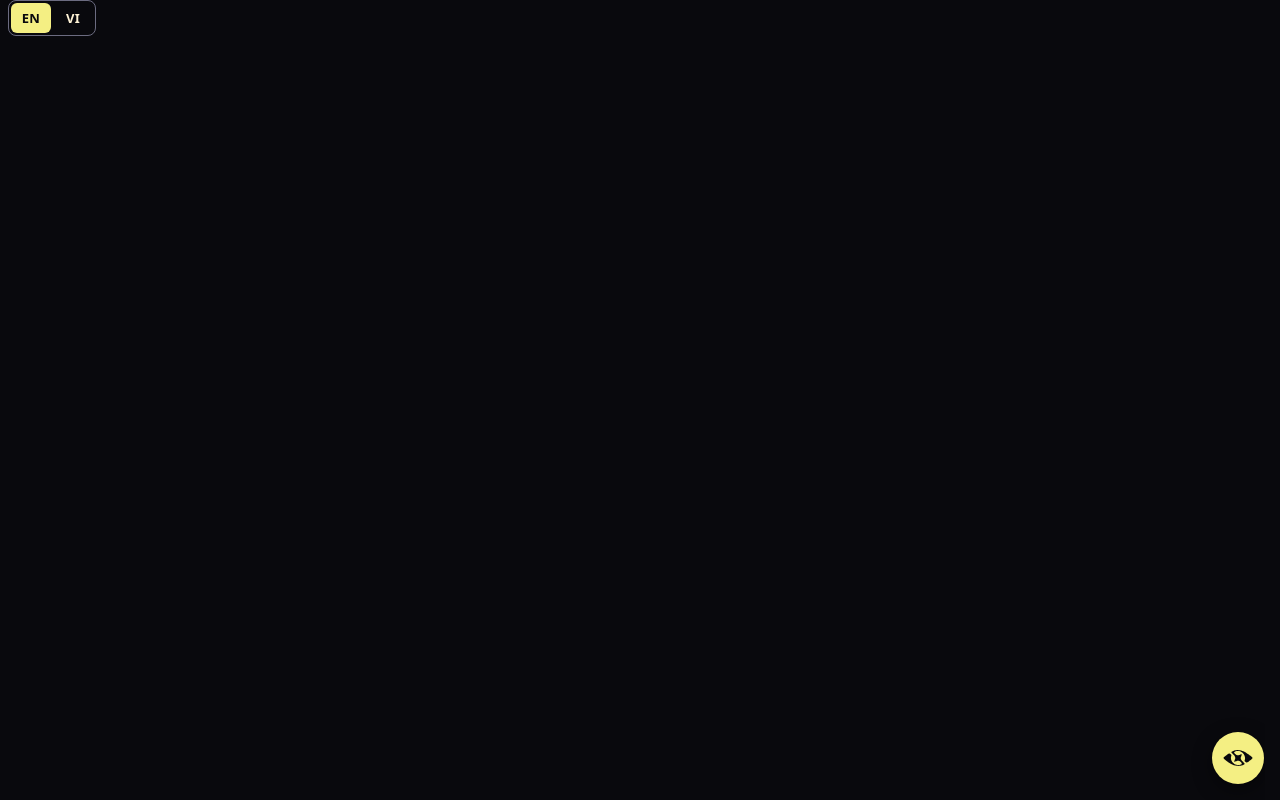
Test: StarChat › updates quick answers and interface when switching language, preserving user messages
Click the button with class "star-chat__fab" at (1238, 758), box top-left (1212, 732), bottom-right (1264, 784)
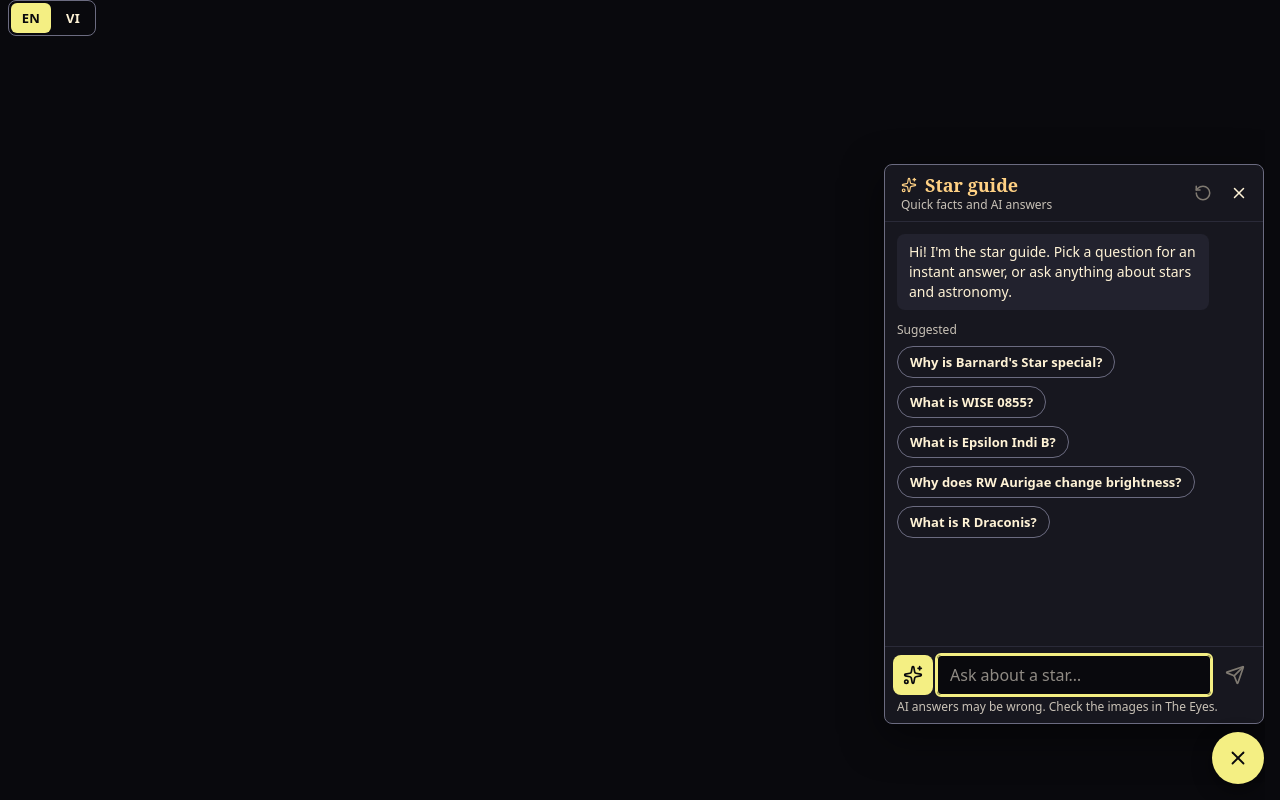
Click the button with class "chip" showing "Why is Barnard's Star special?" at (1006, 362), box top-left (897, 346), bottom-right (1115, 378)
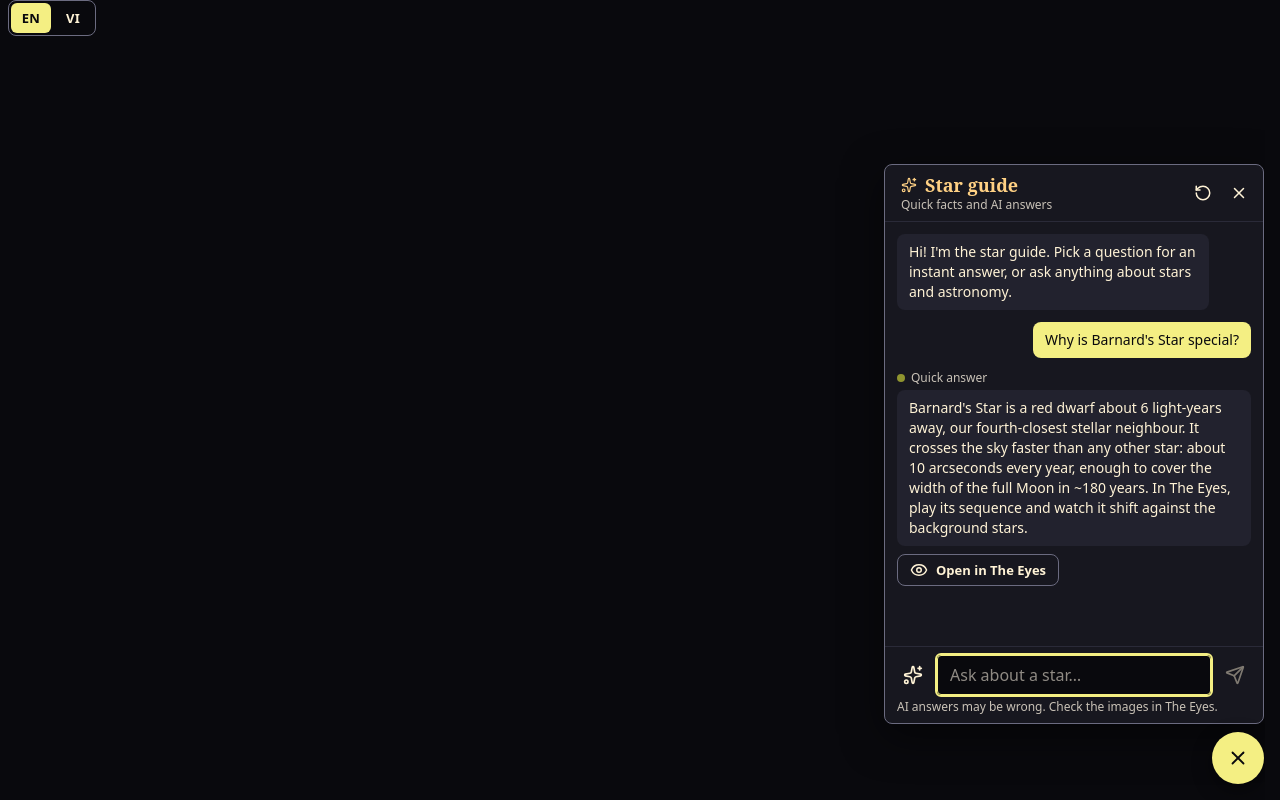
Click the button "VI" at (73, 18), box top-left (53, 3), bottom-right (93, 33)
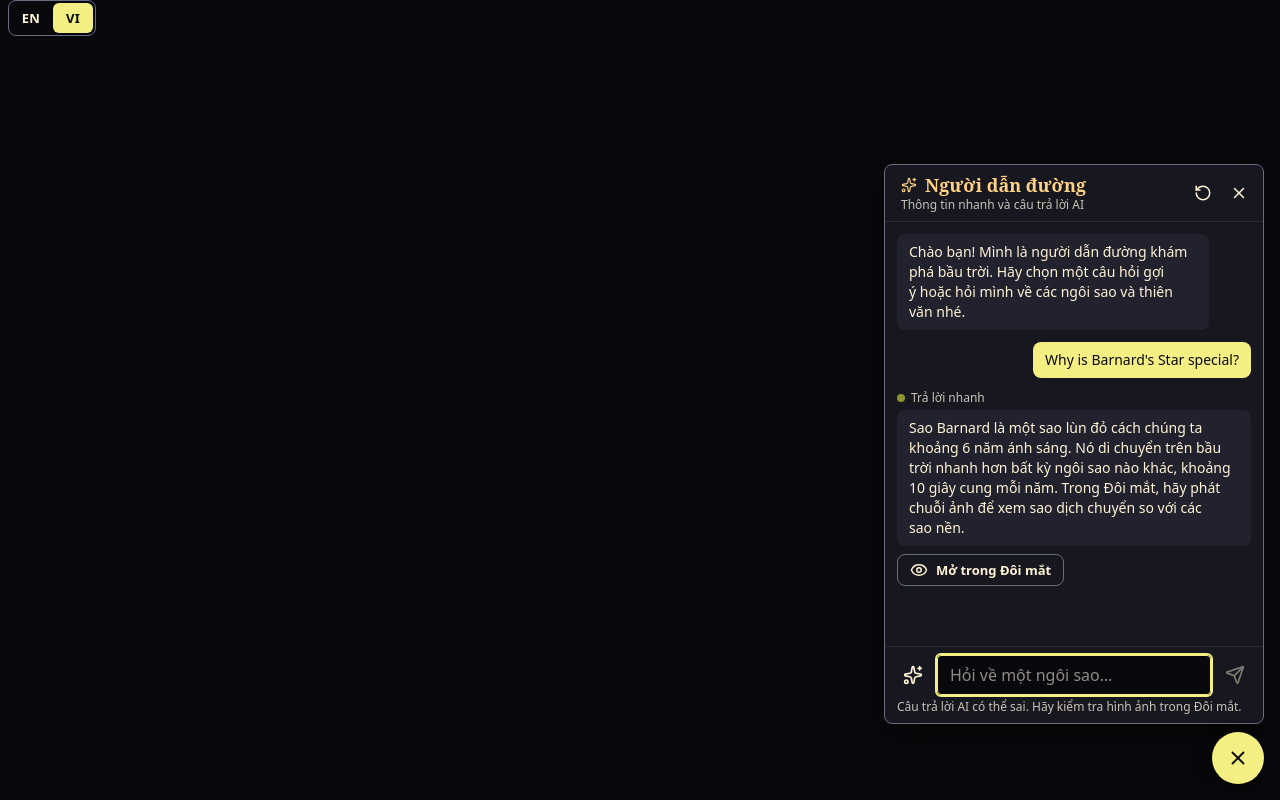
Now the heading with class "star-chat__title" reads "Người dẫn đường", box top-left (925, 173), bottom-right (1086, 197)
